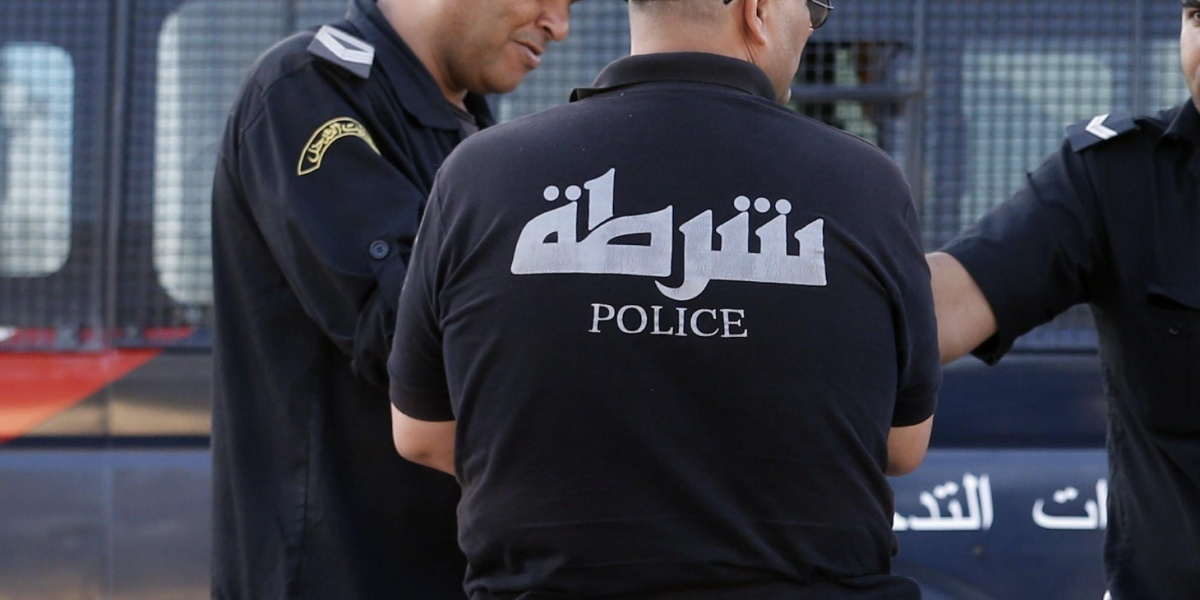text: (545, 163, 560, 308), (561, 163, 576, 308), (577, 163, 592, 308), (593, 163, 608, 308), (609, 163, 624, 308), (625, 163, 640, 308), (641, 163, 656, 308), (657, 163, 672, 308), (673, 163, 688, 308), (689, 163, 704, 308), (705, 163, 720, 308), (721, 163, 736, 308), (737, 163, 752, 308), (753, 163, 768, 308), (769, 163, 784, 308), (785, 163, 800, 308), (801, 163, 816, 308), (817, 163, 832, 308), (1041, 469, 1056, 538), (1057, 469, 1072, 538), (1073, 469, 1088, 538), (1089, 469, 1104, 538), (913, 469, 928, 533), (929, 469, 944, 533), (945, 469, 960, 533), (961, 469, 976, 533), (977, 469, 992, 533), (305, 119, 320, 171), (321, 119, 336, 171), (337, 119, 352, 171), (353, 119, 368, 171), (539, 163, 544, 308), (1105, 469, 1114, 538), (593, 302, 608, 341), (609, 302, 624, 341), (625, 302, 640, 341), (641, 302, 656, 341), (657, 302, 672, 341), (673, 302, 688, 341), (689, 302, 704, 341), (705, 302, 720, 341), (721, 302, 736, 341), (737, 302, 751, 341), (1033, 469, 1040, 538), (906, 469, 912, 533), (299, 119, 304, 171), (589, 302, 592, 341), (369, 119, 371, 171), (993, 469, 994, 533)
